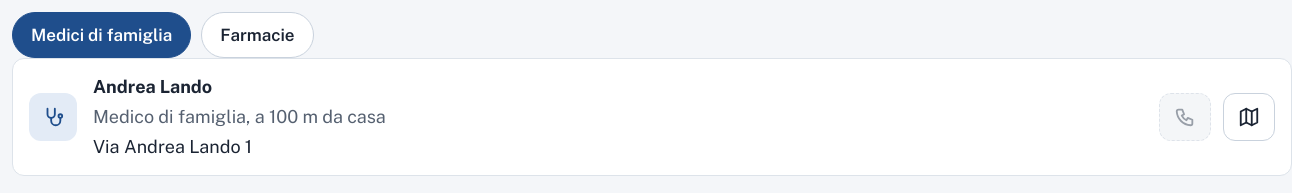
CercaVicino › parte dai medici di famiglia e cambia tipo con i filtri
Check: the text "Andrea Lando" is shown, box [93,76,212,97]
Check: the text "Medico di famiglia, a 100 m da casa" is shown, box [93,106,386,127]
Click the button "Farmacie". click: click(257, 35)
box: [201,12,314,58]
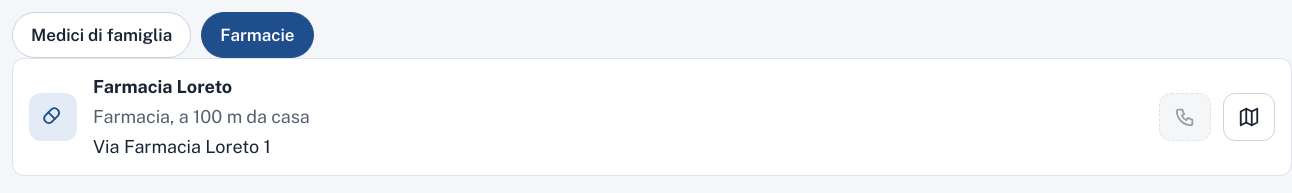
Check: the text "Farmacia Loreto" is shown, box [93,76,232,97]
